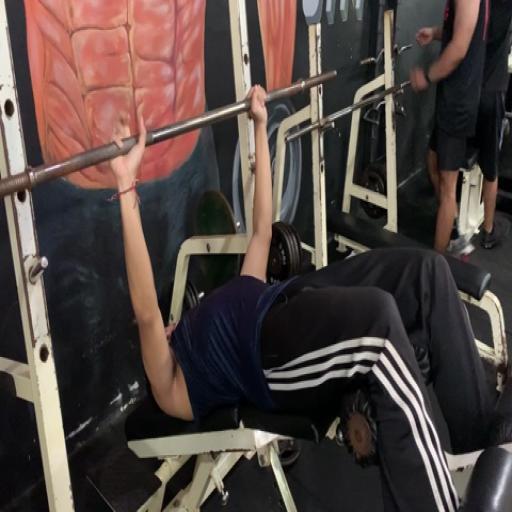exercise: (106, 82, 511, 510)
